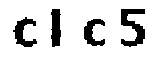5: (115, 6, 149, 50)
c: (10, 16, 40, 50), (82, 16, 110, 50)
l: (48, 4, 74, 53)
